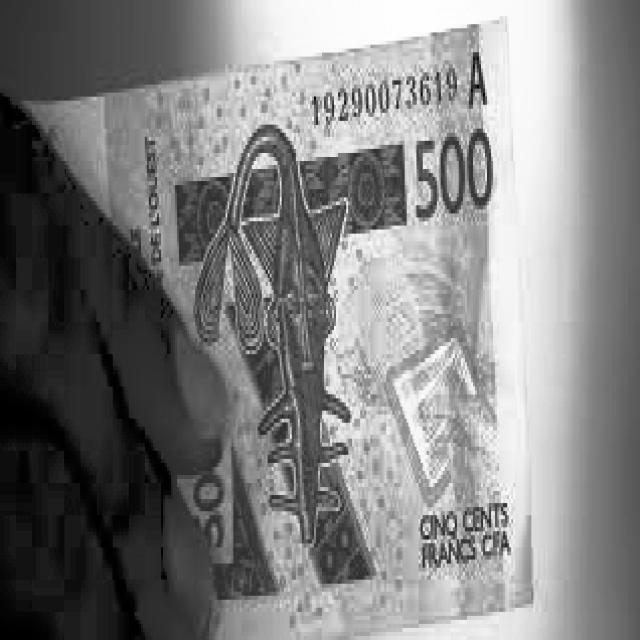teemeer: (33, 20, 530, 637)
